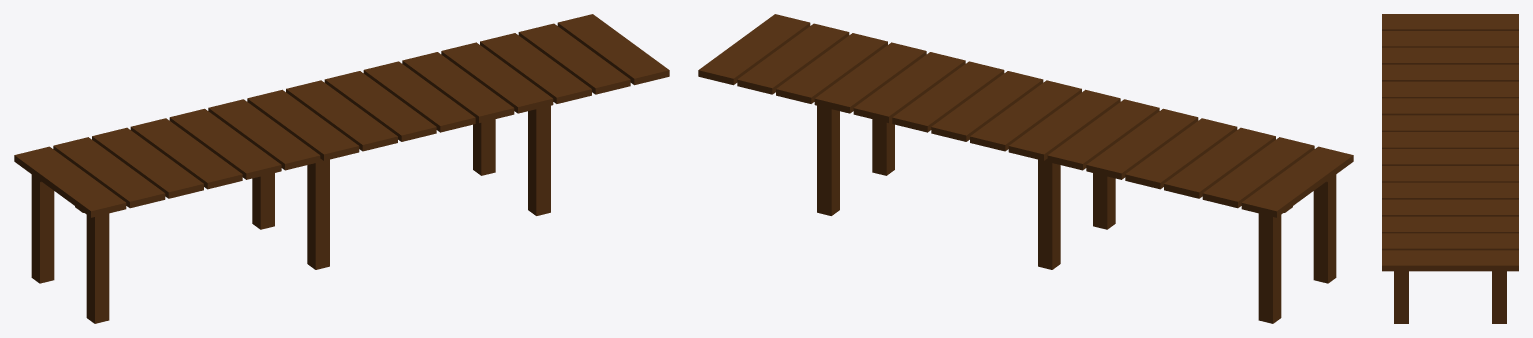
The model's file is Steg.fbx.
3 views of the same model, side by side, from view 1: azimuth 30°, elevation 25°; view 2: azimuth 150°, elevation 25°; view 3: azimuth 270°, elevation 25° (orthographic). The views are drawn at different scales.
Parts seen in each view (by area): view 1: Cube.001; view 2: Cube.001; view 3: Cube.001.
Part boxes in pixels (x1,y1,x2,y2): Cube.001: (14, 14, 669, 323); Cube.001: (698, 14, 1353, 323); Cube.001: (1382, 14, 1518, 323).
Size of the model in its own units: 1572 by 312 by 361.
